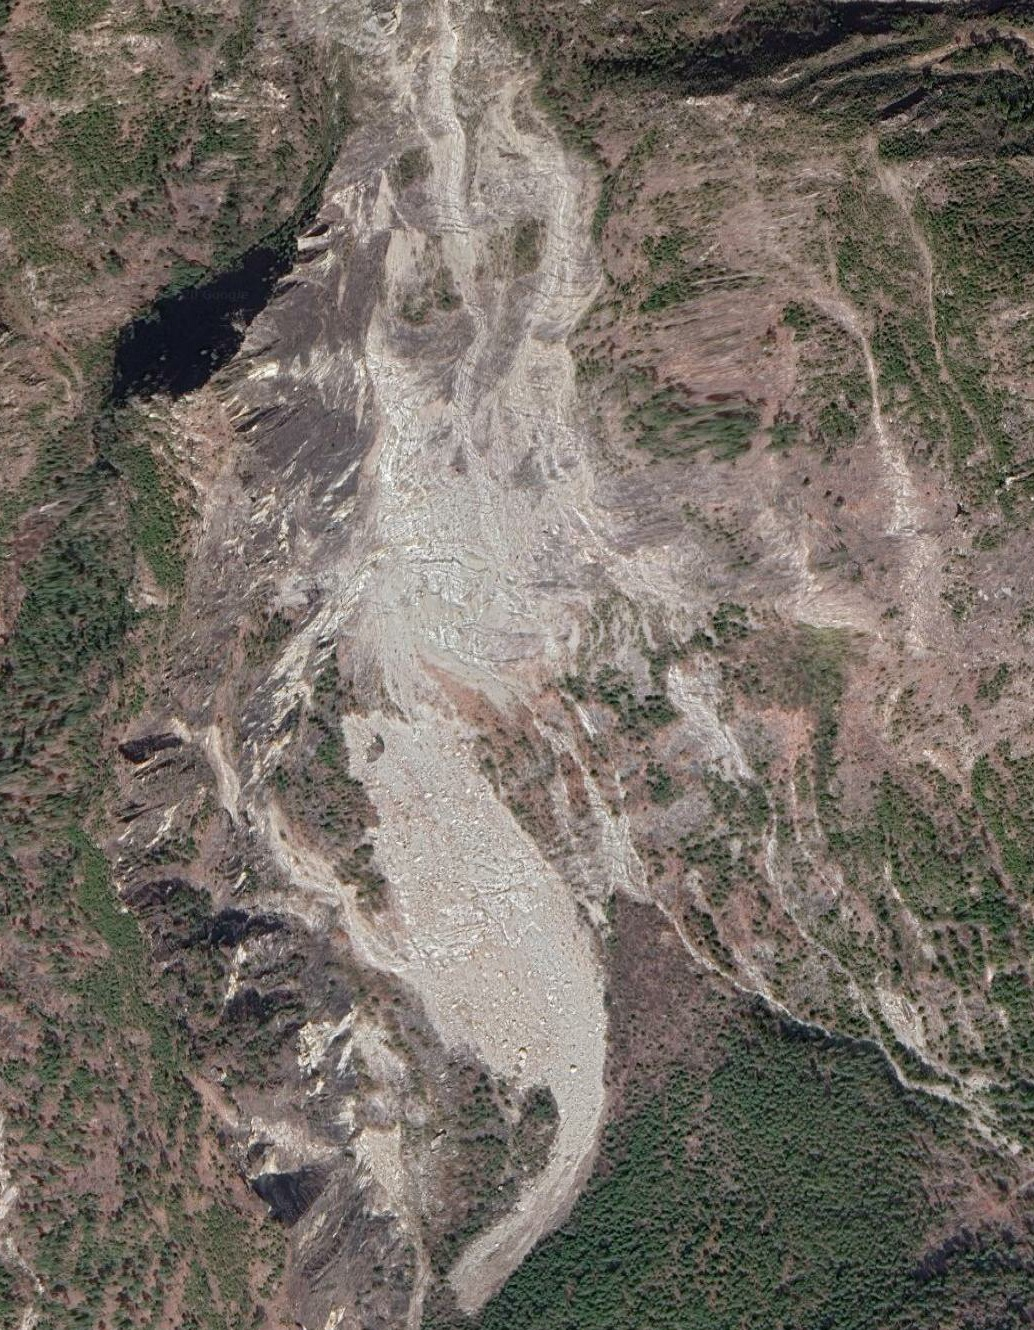slope: (126, 0, 1033, 1329)
